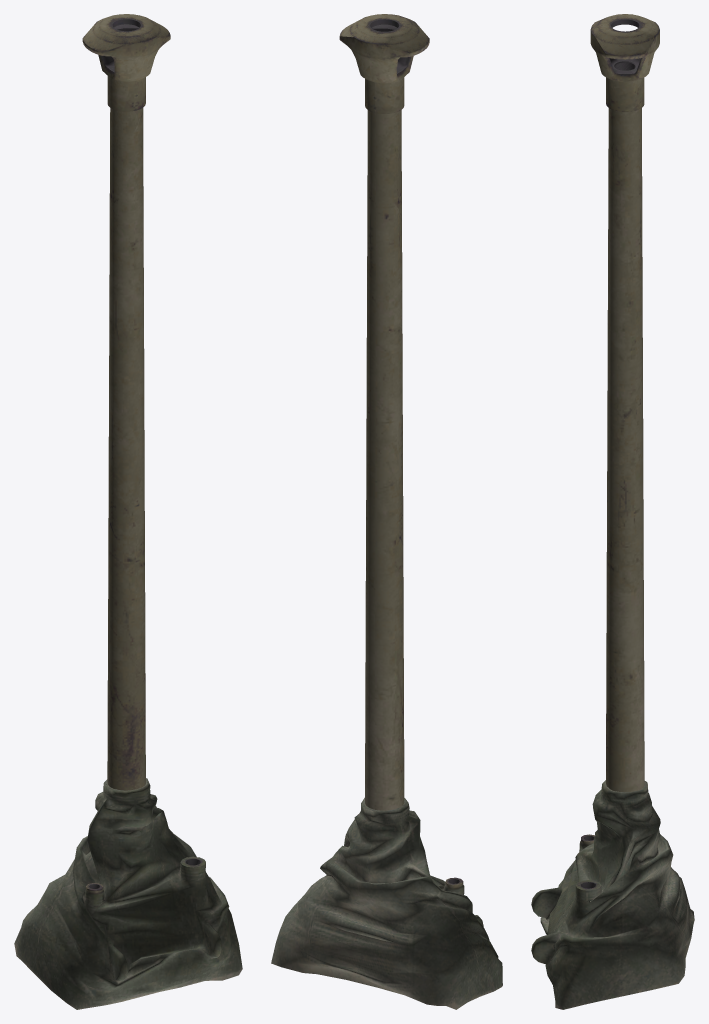
Rendered from Gun_04.glb.
3 renders of one model, left to right at view 1: azimuth 30°, elevation 25°; view 2: azimuth 150°, elevation 25°; view 3: azimuth 270°, elevation 25°, orthographic. The views are drawn at different scales.
Parts seen in each view (by area): view 1: set_0_group_0; view 2: set_0_group_0; view 3: set_0_group_0.
Boxes of the visible parts, x1,y1,x2,y2 form: set_0_group_0: (14, 14, 242, 1009); set_0_group_0: (271, 14, 502, 1009); set_0_group_0: (531, 14, 694, 1009).
Bounding box in the file's own units: 1.27 × 6.1 × 0.9553.
Materials: 1 (1 with a texture image).
